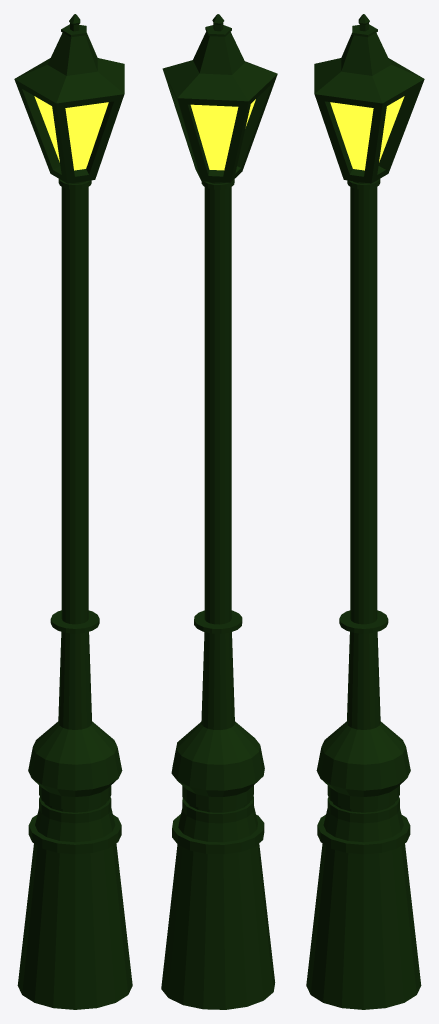
The picture shows the model from 3 angles, left to right: view 1: azimuth 90°, elevation 25°; view 2: azimuth 210°, elevation 25°; view 3: azimuth 270°, elevation 25°; orthographic projection.
Parts seen in each view (by area): view 1: lantern; view 2: lantern; view 3: lantern.
Part boxes in pixels (x1,y1,x2,y2): lantern: [14, 14, 132, 1009]; lantern: [161, 14, 277, 1009]; lantern: [306, 14, 424, 1009].
Bounding box in the file's own units: 0.4989 × 4.61 × 0.5098.
